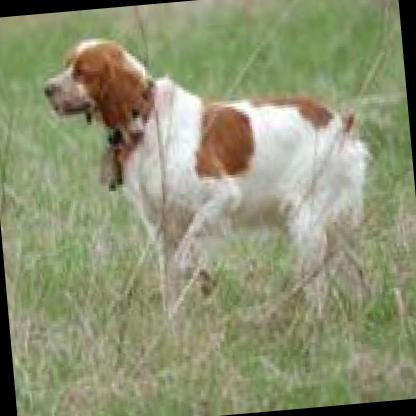Brittany_spaniel: (33, 11, 384, 362)
